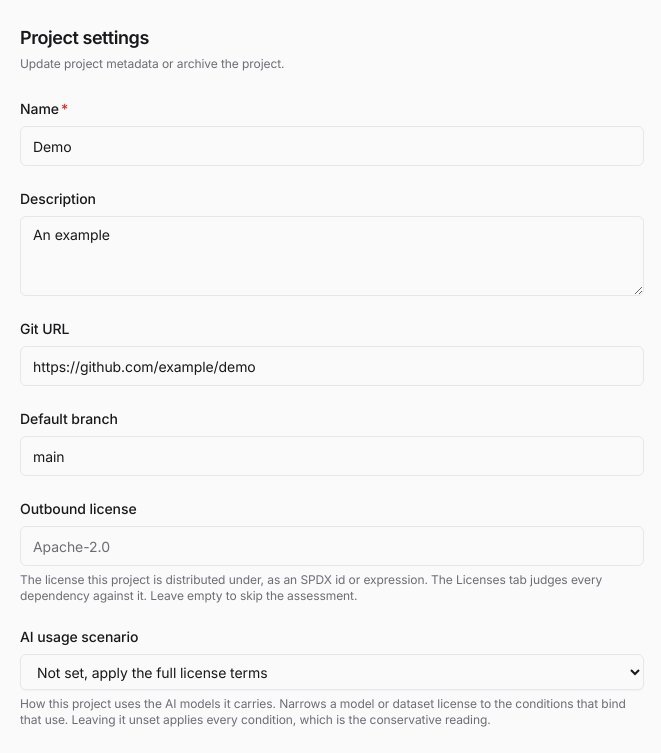
it: SettingsTab › shows an inline error when updateProject returns a ProblemError
The image size is (661, 753).
Replace the text in the field with test id "settings-name-input" with "Other" at (332, 146), box [20,126,644,166]
(page scrolled)
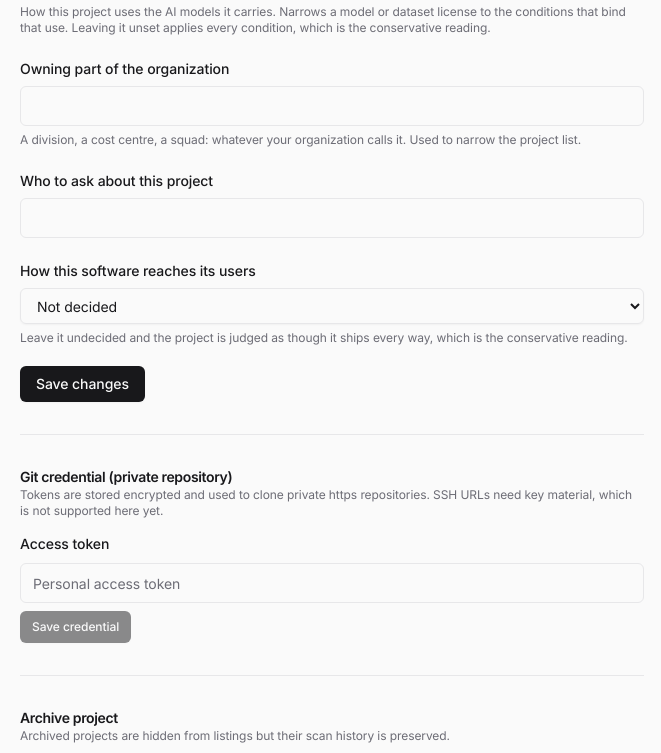
Click the button with test id "settings-save-button" at (82, 384), box [20,366,145,402]
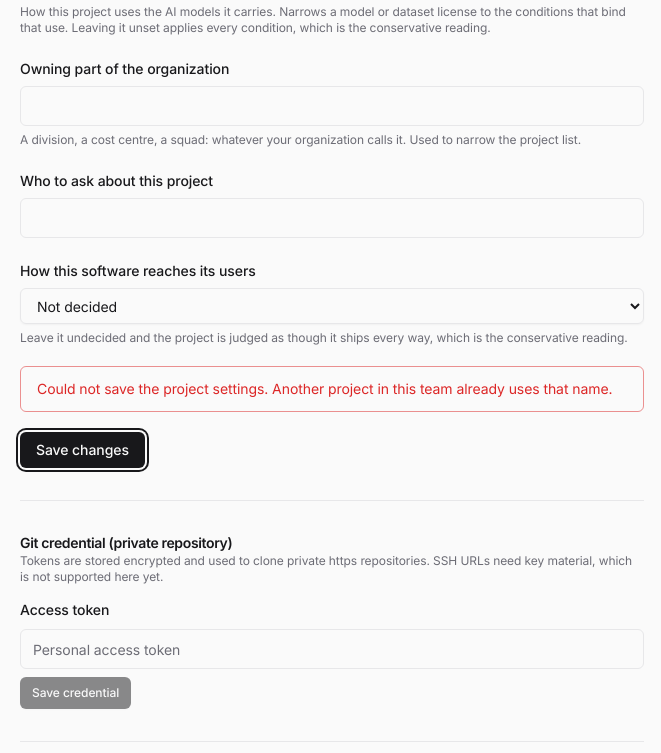
Check: the message with test id "settings-save-error" shows "Another project in this team already uses that name.", box [37,380,612,397]
